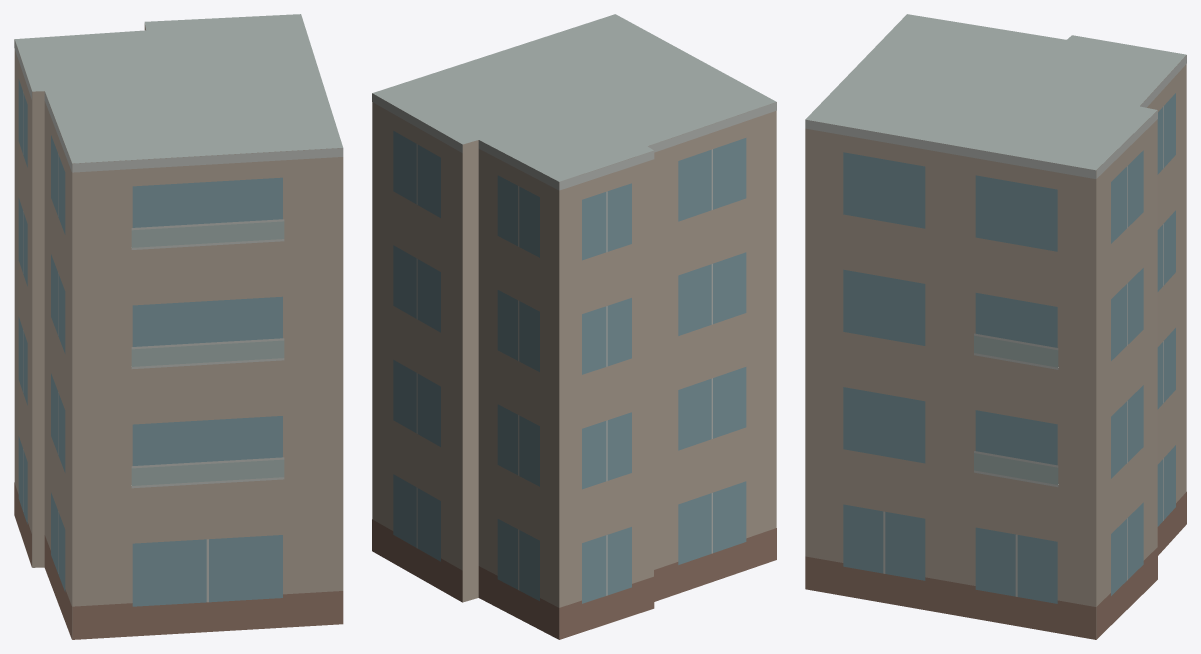
File: survey-upis-32497238.glb
3 views of the same model, side by side, from view 1: azimuth 30°, elevation 25°; view 2: azimuth 150°, elevation 25°; view 3: azimuth 270°, elevation 25° (orthographic). The views are drawn at different scales.
Parts seen in each view (by area): view 1: survey-upis-32497238.tmp; view 2: survey-upis-32497238.tmp; view 3: survey-upis-32497238.tmp.
Boxes of the visible parts, box(x1,y1,x2,y2) form: survey-upis-32497238.tmp: box(14, 14, 343, 639); survey-upis-32497238.tmp: box(372, 14, 776, 639); survey-upis-32497238.tmp: box(805, 14, 1186, 639).
Size of the model in its own units: 9.15 by 12.8 by 9.44.
